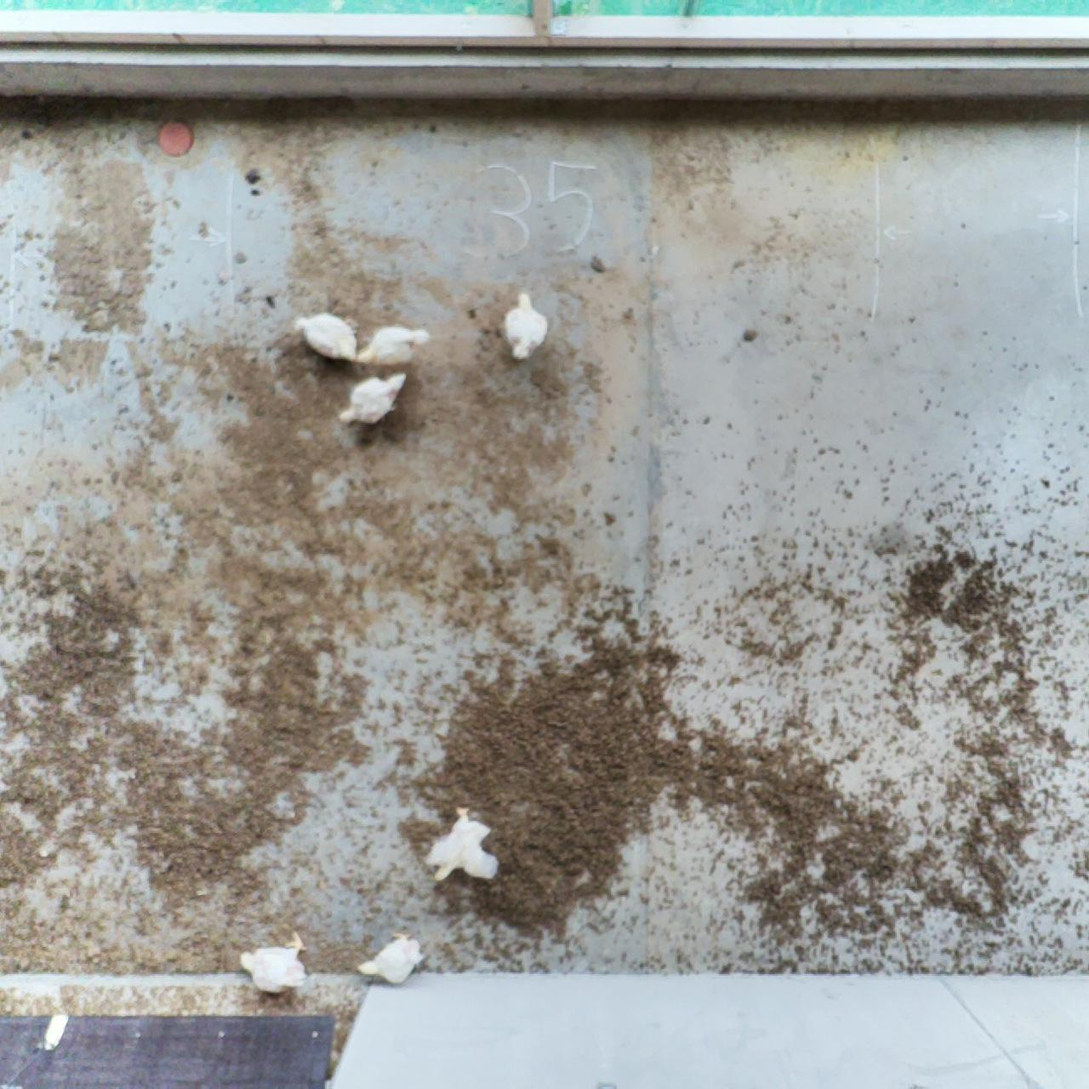chicken: (419, 811, 501, 884), (238, 930, 312, 996), (338, 370, 409, 428), (356, 929, 427, 986), (292, 309, 360, 364), (501, 289, 551, 363), (355, 323, 433, 369)
